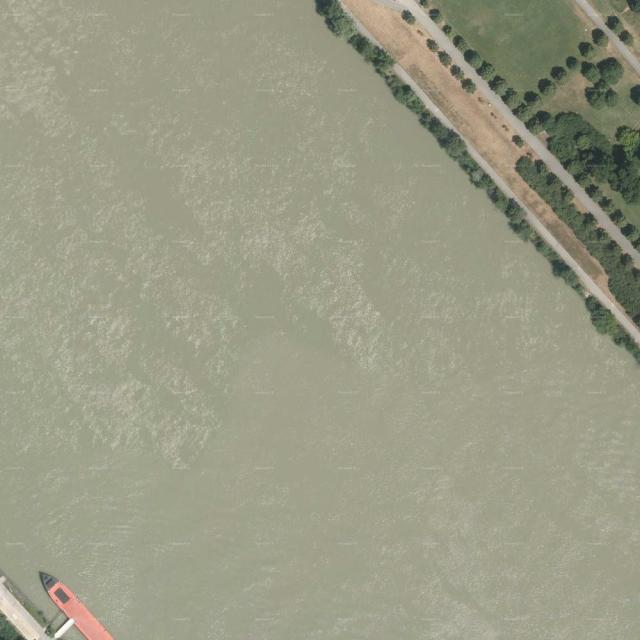greenland: (511, 142, 640, 326), (539, 37, 640, 148), (508, 37, 614, 137), (448, 30, 513, 100), (591, 174, 640, 229), (580, 56, 627, 110), (0, 614, 24, 639), (588, 26, 611, 47), (442, 24, 452, 35)
metalled_road: (474, 76, 640, 270), (553, 242, 640, 344), (404, 0, 464, 63)
